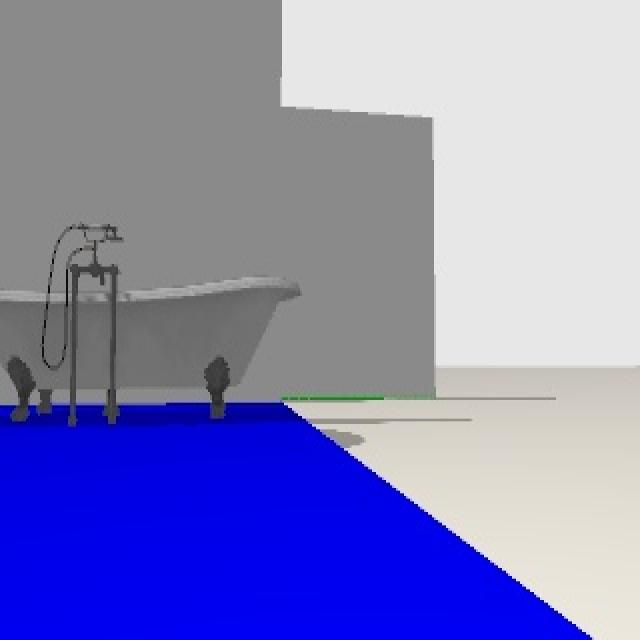bathtub: (0, 229, 302, 435)
